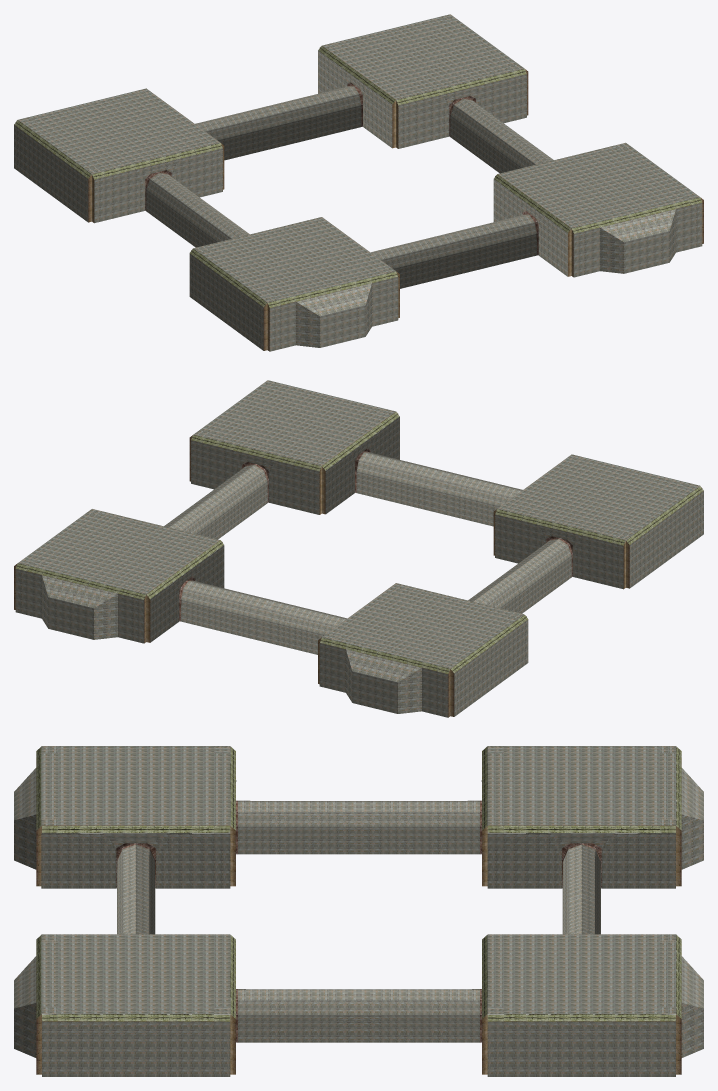
File: map16_dspl_chk.fbx
3 renders of one model, top to bottom at view 1: azimuth 30°, elevation 25°; view 2: azimuth 150°, elevation 25°; view 3: azimuth 270°, elevation 25°, orthographic. The views are drawn at different scales.
Visible parts, largest first — view 1: roof, wall1_1, tonnel1, roof_fuchi, wall1_2, hashira, exit_fichi; view 2: roof, wall1_1, tonnel1, roof_fuchi, wall1_2, hashira, exit_fichi; view 3: roof, tonnel1, wall1_1, wall1_2, roof_fuchi, hashira, exit_fichi.
Part boxes in pixels (x1,y1,x2,y2): roof: (18,14,699,302); wall1_1: (14,74,702,351); tonnel1: (146,86,553,288); roof_fuchi: (14,46,702,307); wall1_2: (318,51,567,276); hashira: (88,47,703,351); exit_fichi: (145,82,538,255); roof: (18,380,699,668); wall1_1: (15,440,703,717); tonnel1: (164,452,571,654); roof_fuchi: (15,412,703,673); wall1_2: (150,417,399,642); hashira: (14,413,701,717); exit_fichi: (179,448,572,621); roof: (41,746,675,1013); tonnel1: (117,800,600,1042); wall1_1: (14,768,703,1076); wall1_2: (41,833,675,888); roof_fuchi: (36,746,681,1021); hashira: (36,826,681,1074); exit_fichi: (116,800,601,1042).
Bounding box in the file's own units: 2.82 × 0.2916 × 3.02.
4 materials, 4 textured.
